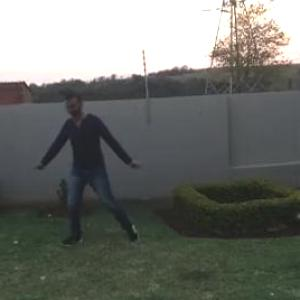land: (27, 76, 145, 250)
